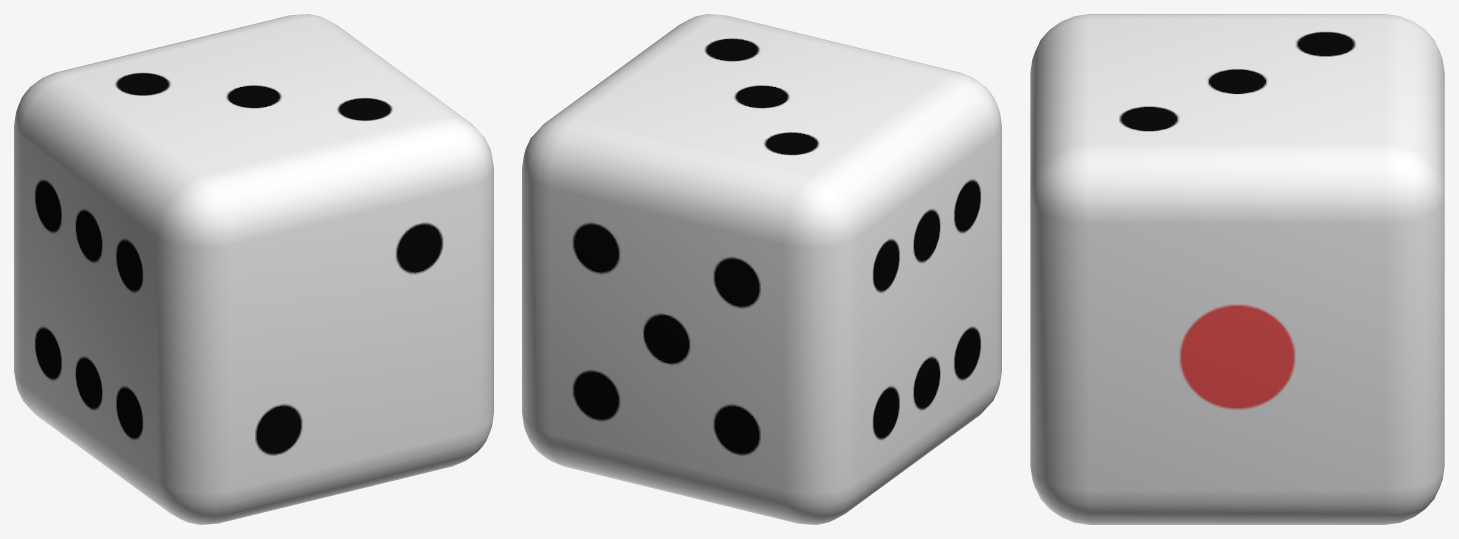
File: dice.fbx
The picture shows the model from 3 angles, left to right: view 1: azimuth 30°, elevation 25°; view 2: azimuth 150°, elevation 25°; view 3: azimuth 270°, elevation 25°; orthographic projection. The views are drawn at different scales.
Parts seen in each view (by area): view 1: Cube; view 2: Cube; view 3: Cube.
Boxes of the visible parts, <box> form: Cube: <box>14,14,493,524</box>; Cube: <box>522,14,1001,524</box>; Cube: <box>1030,14,1444,524</box>.
Size of the model in its own units: 200 by 200 by 200.
Materials: 1 (1 with a texture image).
